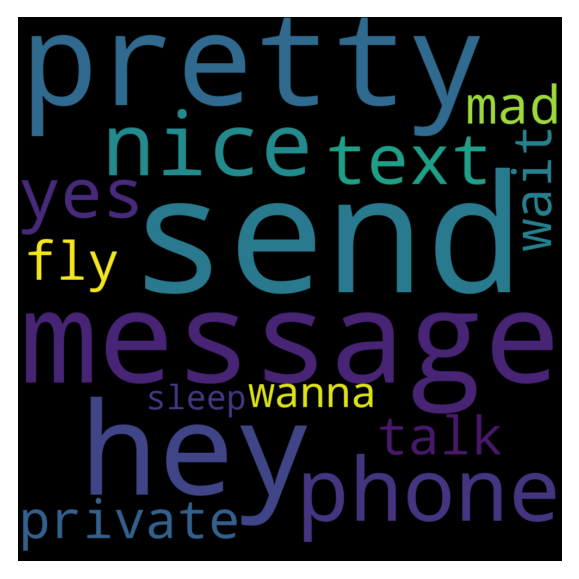

This screenshot's page, from the dashboard's own definition file:
{"tool":"tableau","page":{"name":"Dashboard 1","canvas":[1000,800],"ordinal":0},"visuals":[{"type":"worksheet","title":"Topics","mark":"Automatic","box":[74,14,886,777]},{"type":"worksheet","title":"Topics","mark":"Automatic","param":"[federated.0f70d2m07pqro519ml5wd1i6v16a].[none:type:nk]","box":[10,18,72,40]}]}

Visuals, with their boxes in screenshot pixels (x1, y1, x2, y2):
"Topics" worksheet: 17, 15, 561, 491
"Topics" worksheet: 0, 17, 22, 42
